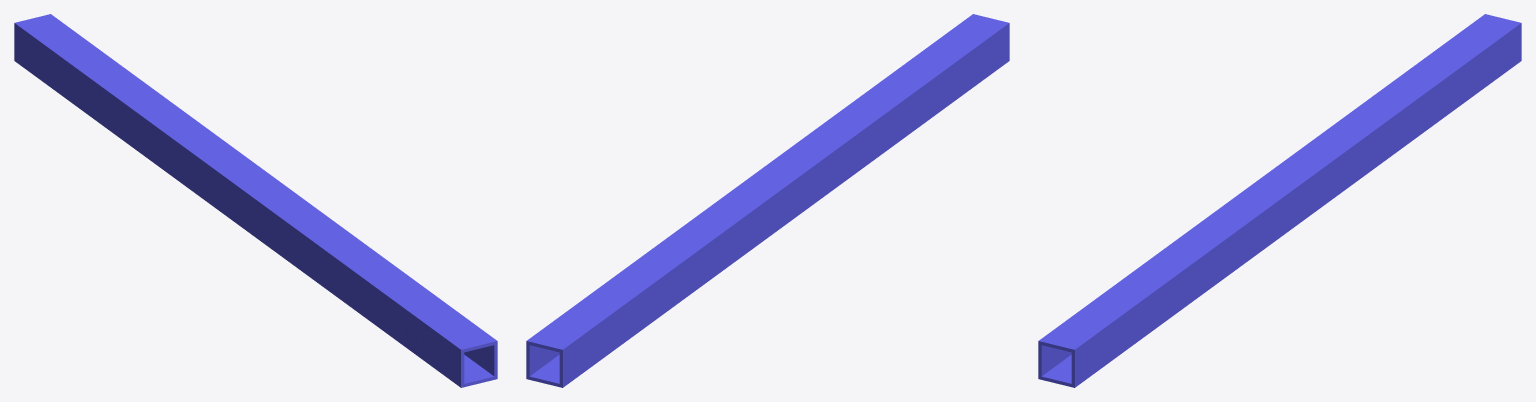
Rendered from CANALETA2.obj.
3 renders of one model, left to right at view 1: azimuth 30°, elevation 25°; view 2: azimuth 150°, elevation 25°; view 3: azimuth 330°, elevation 25°, orthographic.
Parts seen in each view (by area): view 1: mesh_0; view 2: mesh_0; view 3: mesh_0.
Part boxes in pixels (left/top/right/bottom): mesh_0: left=14, top=14, right=497, bottom=387; mesh_0: left=526, top=14, right=1009, bottom=387; mesh_0: left=1038, top=14, right=1521, bottom=387.
Bounding box in the file's own units: 40 × 40 × 850.
